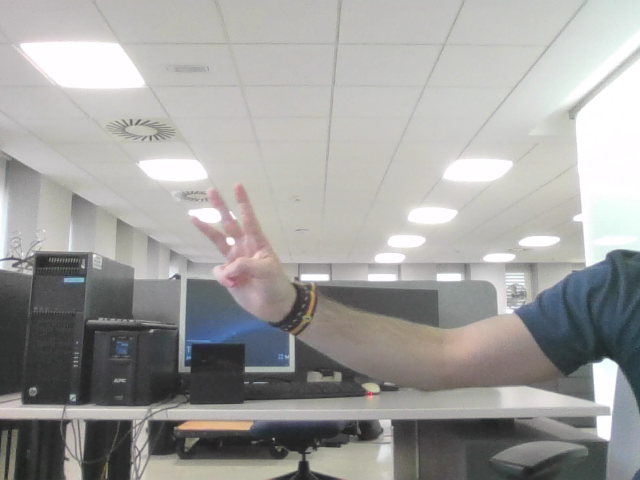3Dedos: (198, 194, 270, 282)
